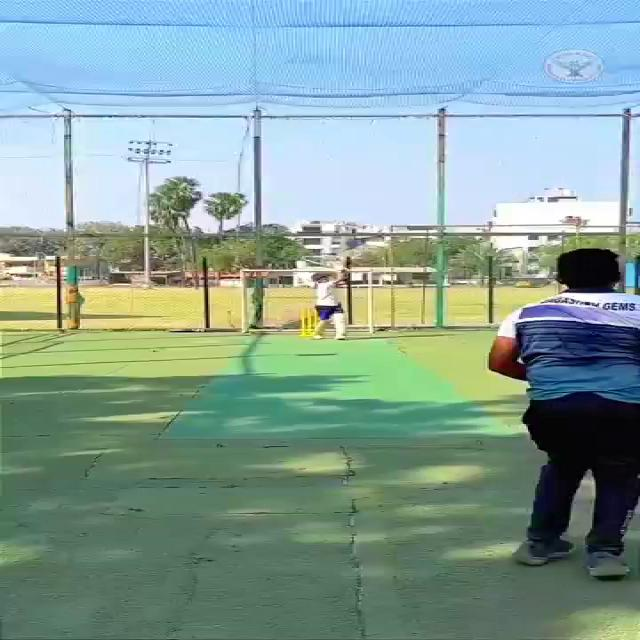batsman: (289, 255, 353, 341)
